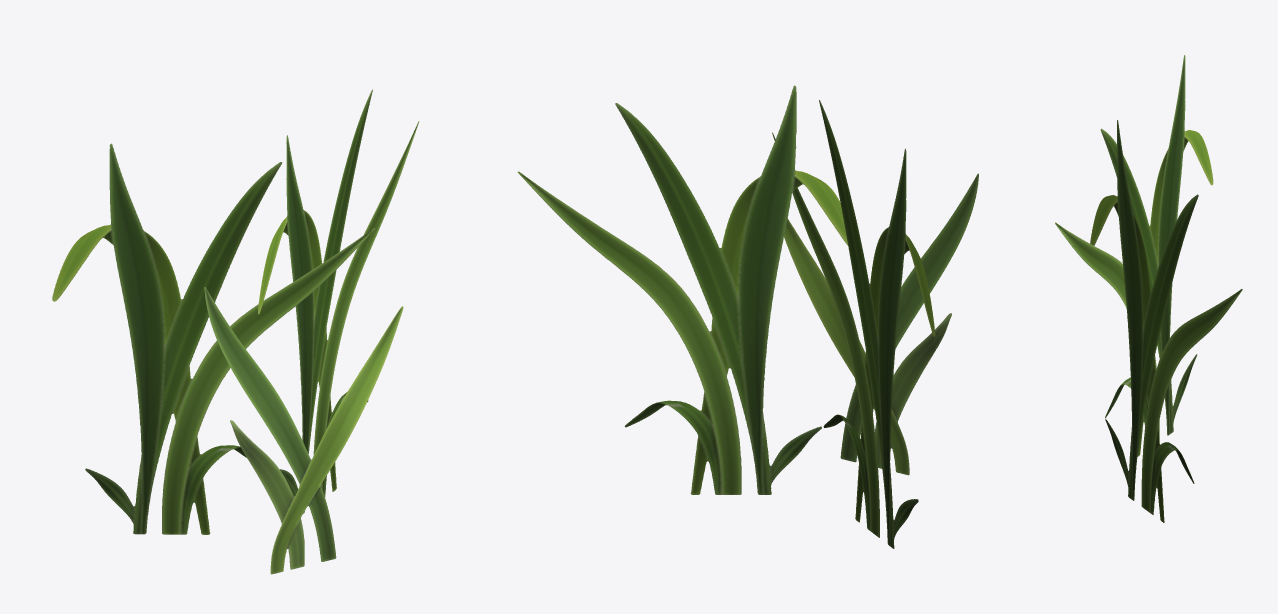
File: Grass_shett5.fbx
The picture shows the model from 3 angles, left to right: view 1: azimuth 30°, elevation 25°; view 2: azimuth 150°, elevation 25°; view 3: azimuth 270°, elevation 25°; orthographic projection. The views are drawn at different scales.
Parts seen in each view (by area): view 1: Grass1_sheet5; view 2: Grass1_sheet5; view 3: Grass1_sheet5.
Boxes of the visible parts, bbox=[...] form: Grass1_sheet5: bbox=[52, 89, 419, 574]; Grass1_sheet5: bbox=[517, 85, 978, 548]; Grass1_sheet5: bbox=[1055, 55, 1242, 522].
Bounding box in the file's own units: 36.47 × 31.52 × 17.56.
